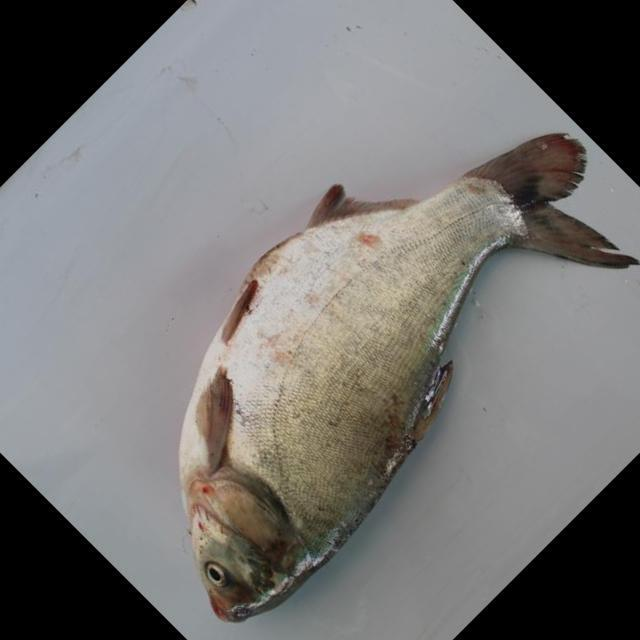SilverCarp: (132, 110, 622, 621)
